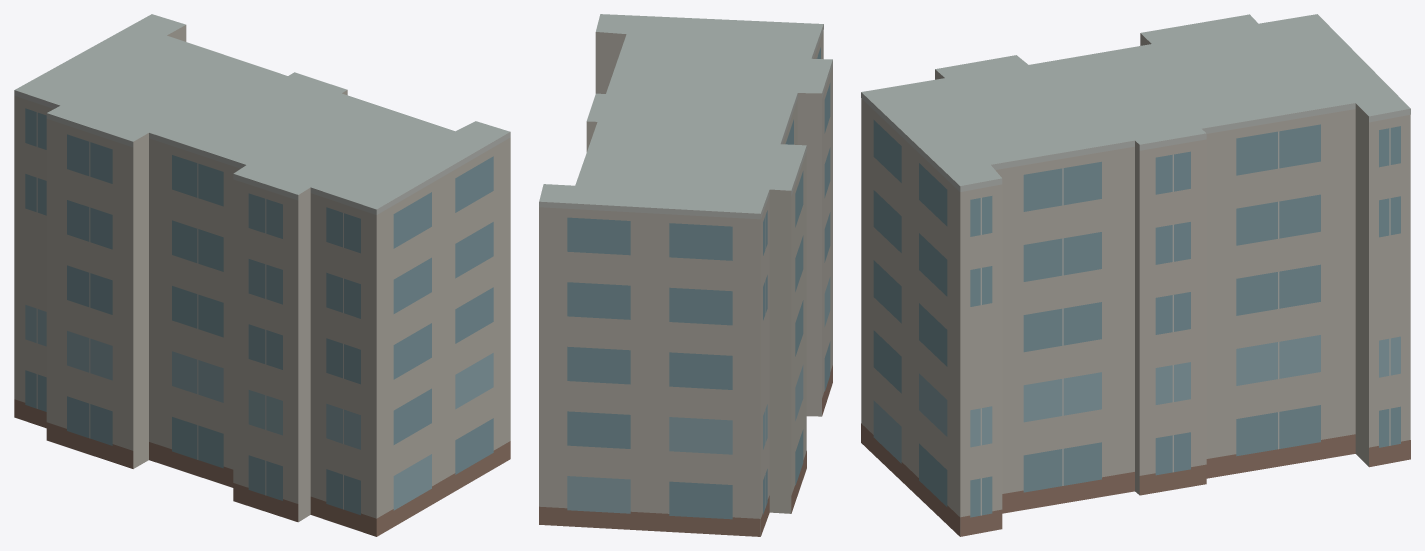
Rendered from survey-upis-33043093.glb.
The picture shows the model from 3 angles, left to right: view 1: azimuth 30°, elevation 25°; view 2: azimuth 150°, elevation 25°; view 3: azimuth 270°, elevation 25°; orthographic projection. The views are drawn at different scales.
Parts seen in each view (by area): view 1: survey-upis-33043093.tmp; view 2: survey-upis-33043093.tmp; view 3: survey-upis-33043093.tmp.
Part boxes in pixels (x1,y1,x2,y2): survey-upis-33043093.tmp: (14, 14, 510, 536); survey-upis-33043093.tmp: (539, 14, 832, 536); survey-upis-33043093.tmp: (861, 14, 1410, 536).
Size of the model in its own units: 14.96 by 14.2 by 20.18.
